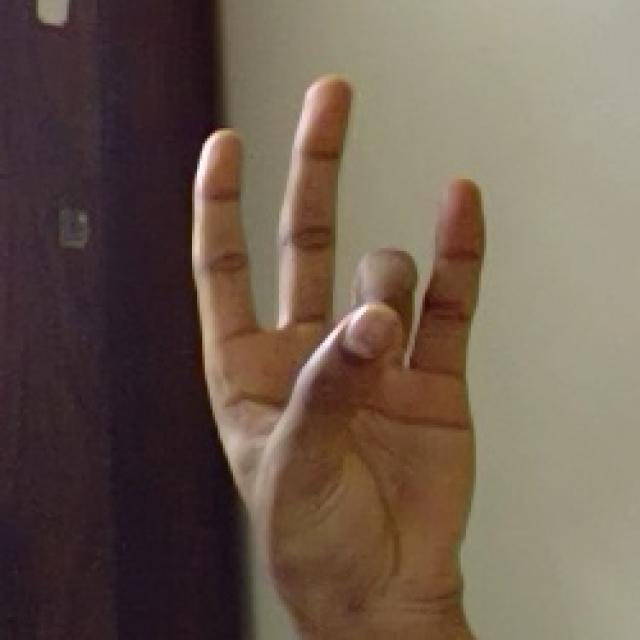Numeric-7: (188, 68, 490, 634)
